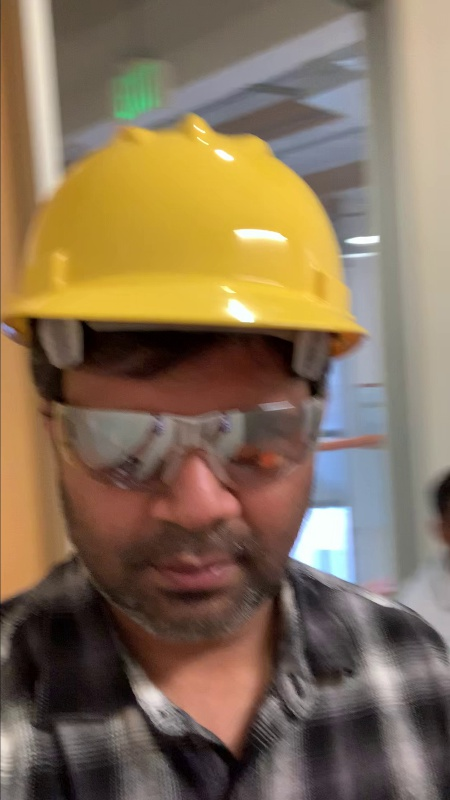glasses: (47, 399, 332, 488)
helmet: (13, 117, 369, 336)
